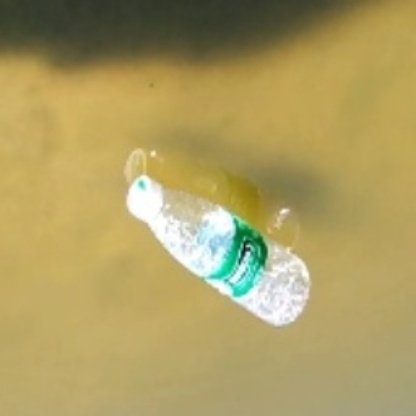bottle: (115, 167, 318, 328)
